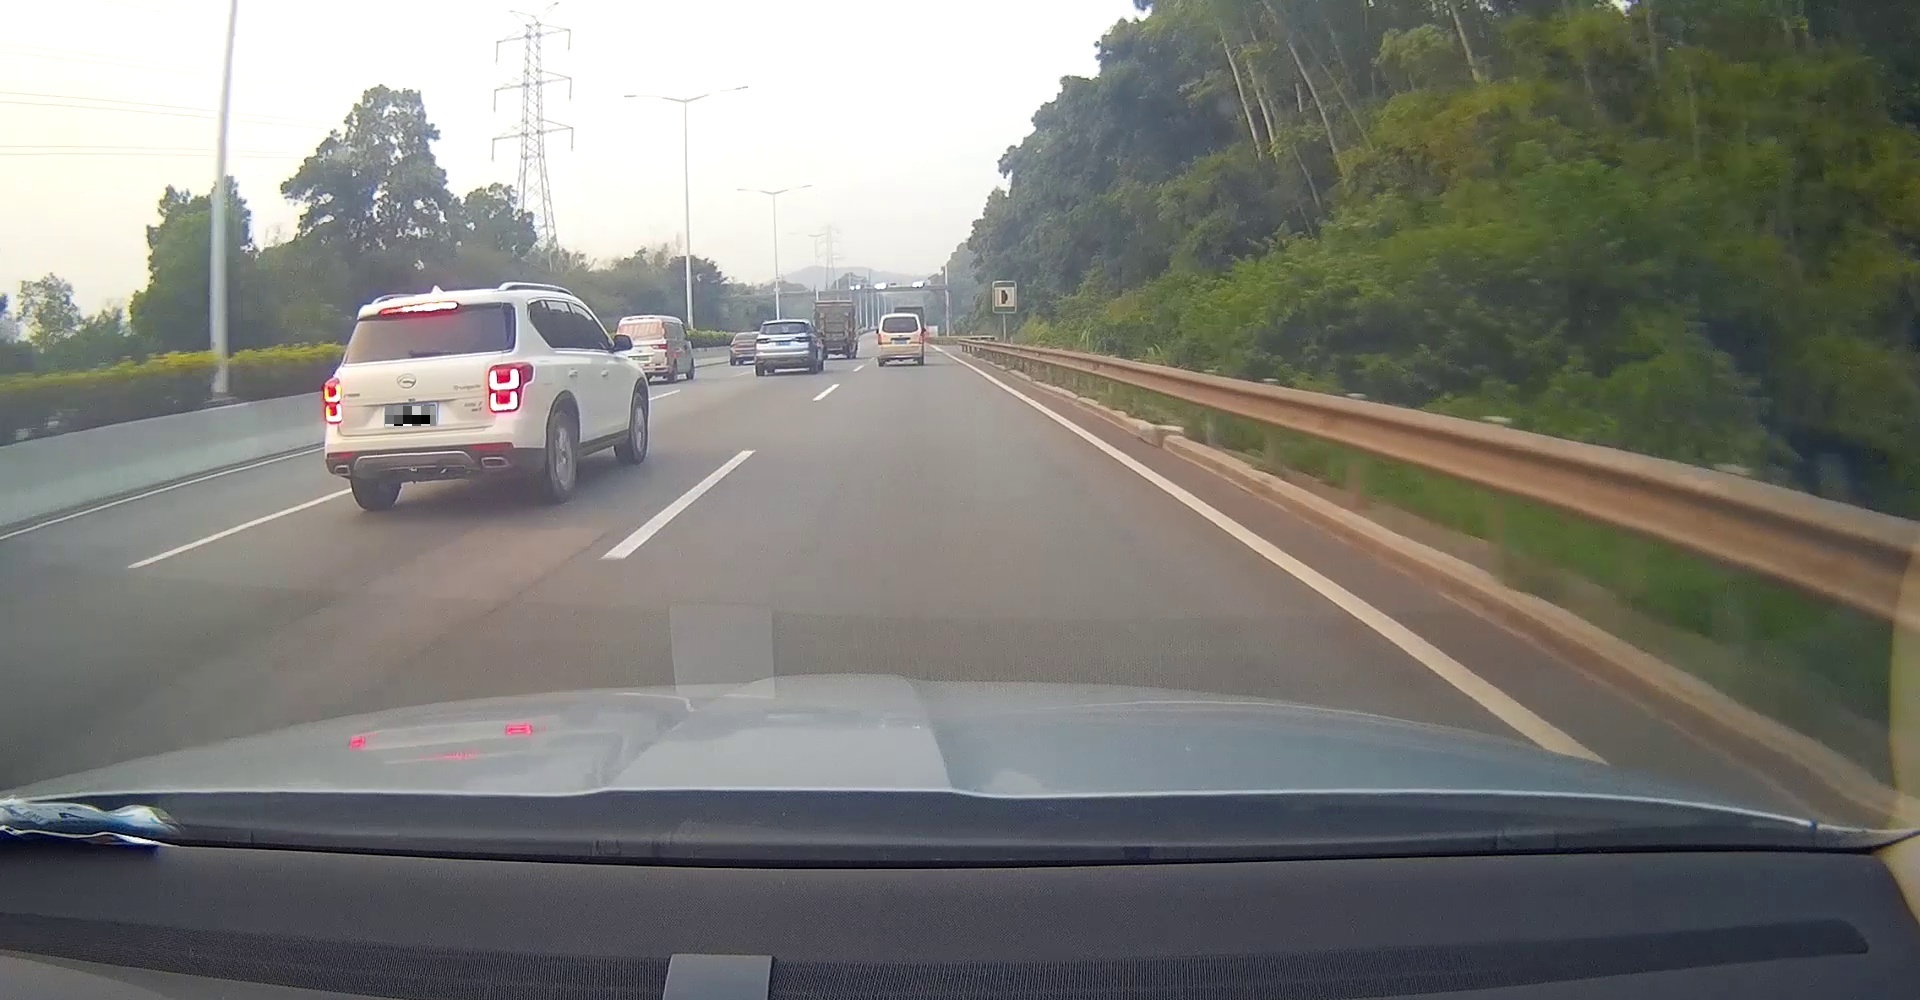L_light: (323, 377, 344, 425)
R_light: (486, 360, 533, 412)
T_light: (378, 301, 458, 317)
day-brake: (321, 292, 549, 508)
plate_1: (385, 406, 436, 426)
